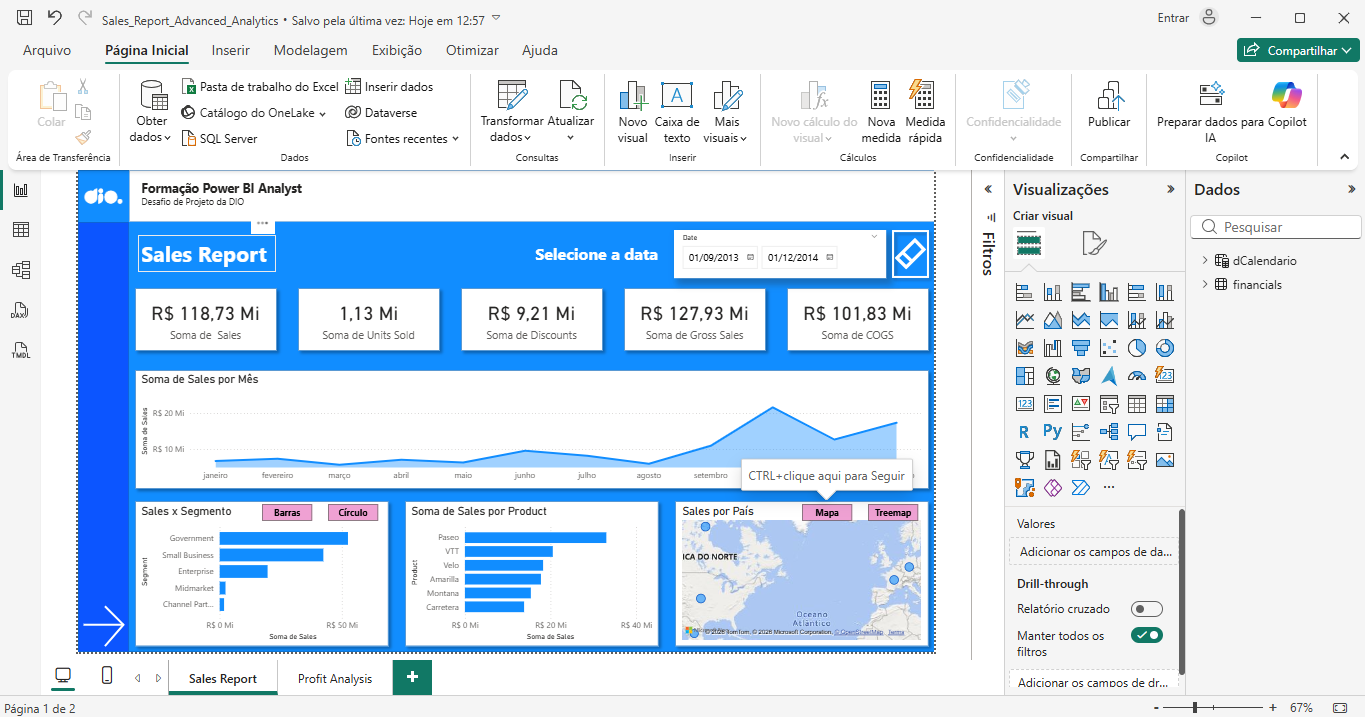

The page's visual inventory and layout, read from the dashboard file:
{"tool":"powerbi","page":{"name":"Sales Report","canvas":[1280,720],"ordinal":0},"visuals":[{"type":"shape","box":[0,0,1280.2,720],"z":0},{"type":"shape","box":[76.1,166.6,230,112],"z":0,"group":"g1"},{"type":"shape","box":[0,77.7,76.2,642.3],"z":1000},{"type":"shape","box":[319.5,166.6,230,112],"z":1000,"group":"g1"},{"type":"group","id":"g1","title":"Grupo 1","box":[76.1,166.6,1203.8,112],"z":2000},{"type":"shape","box":[563,166.6,230,112],"z":2000,"group":"g1"},{"type":"shape","box":[76.2,0,1204,77.7],"z":3000},{"type":"shape","box":[806.4,166.6,230,112],"z":3000,"group":"g1"},{"type":"shape","box":[1049.9,166.6,230,112],"z":4000,"group":"g1"},{"type":"shape","box":[76.2,289.8,1204,195.7],"z":4000},{"type":"shape","box":[76.7,485,396.7,235],"z":5000},{"type":"shape","box":[480,485,396.7,235],"z":6000},{"type":"shape","box":[883.3,485,396.7,235],"z":7000},{"type":"card","fields":{"Values":["Sum(financials. Sales)"]},"box":[90,178.3,201.7,88.3],"z":8000},{"type":"card","fields":{"Values":["Sum(financials.Units Sold)"]},"box":[333.3,178.3,201.7,88.3],"z":9000},{"type":"card","fields":{"Values":["Sum(financials.Discounts)"]},"box":[576.7,178.3,201.7,88.3],"z":10000},{"type":"card","fields":{"Values":["Sum(financials.Gross Sales)"]},"box":[820,178.3,201.7,88.3],"z":11000},{"type":"card","fields":{"Values":["Sum(financials.COGS)"]},"box":[1063.3,178.3,201.7,88.3],"z":12000},{"type":"areaChart","fields":{"Category":["dCalendario.Date.Variation.Hierarquia de datas.Mês"],"Y":["Sum(financials. Sales)"]},"box":[90,301.7,1175,171.7],"z":13000},{"type":"clusteredBarChart","fields":{"Category":["financials.Product"],"Y":["Sum(financials. Sales)"]},"box":[493.3,498.3,370,208.3],"z":14000},{"type":"actionButton","box":[0,642.3,76.2,77.7],"z":15000},{"type":"textbox","box":[678.2,103.1,212.1,44.8],"z":16000},{"type":"slicer","fields":{"Values":["dCalendario.Date"]},"box":[890.3,89.6,316.7,71.7],"z":17000},{"type":"textbox","box":[89.6,97.1,206.1,55.3],"z":18000},{"type":"textbox","box":[89.6,9,271.9,58.3],"z":19000},{"type":"actionButton","box":[1207,80.7,73.2,89.6],"z":20000},{"type":"image","box":[0,0,76.2,77.7],"z":21000},{"type":"barChart","title":"Sales x Segmento","fields":{"Category":["financials.Segment"],"Y":["Sum(financials. Sales)"]},"box":[90,498.3,370,208.3],"z":22000},{"type":"actionButton","box":[275,498.3,75,25],"z":24000},{"type":"actionButton","box":[373.3,498.3,75,25],"z":25000},{"type":"map","title":"Sales por País","fields":{"Category":["financials.Country"],"Size":["Sum(financials. Sales)"]},"box":[898.3,498.3,366.7,208.3],"z":26000},{"type":"actionButton","box":[1081.7,498.3,75,25],"z":28000},{"type":"actionButton","box":[1180,498.3,75,25],"z":29000}]}

Visuals, with their boxes on the page's 1280x720 design canvas (x1, y1, x2, y2). These are canvas units, not pixel positions in the 1365x717 screenshot, which may show the page scaled, cropped or inside an application window:
shape: <box>0,0,1280,720</box>
shape: <box>76,167,306,279</box>
shape: <box>0,78,76,720</box>
shape: <box>320,167,550,279</box>
"Grupo 1" group: <box>76,167,1280,279</box>
shape: <box>563,167,793,279</box>
shape: <box>76,0,1280,78</box>
shape: <box>806,167,1036,279</box>
shape: <box>1050,167,1280,279</box>
shape: <box>76,290,1280,486</box>
shape: <box>77,485,473,720</box>
shape: <box>480,485,877,720</box>
shape: <box>883,485,1280,720</box>
card - Sum(financials. Sales): <box>90,178,292,267</box>
card - Sum(financials.Units Sold): <box>333,178,535,267</box>
card - Sum(financials.Discounts): <box>577,178,778,267</box>
card - Sum(financials.Gross Sales): <box>820,178,1022,267</box>
card - Sum(financials.COGS): <box>1063,178,1265,267</box>
areaChart - dCalendario.Date.Variation.Hierarquia de datas.Mês x Sum(financials. Sales): <box>90,302,1265,473</box>
clusteredBarChart - financials.Product x Sum(financials. Sales): <box>493,498,863,707</box>
actionButton: <box>0,642,76,720</box>
textbox: <box>678,103,890,148</box>
slicer - dCalendario.Date: <box>890,90,1207,161</box>
textbox: <box>90,97,296,152</box>
textbox: <box>90,9,362,67</box>
actionButton: <box>1207,81,1280,170</box>
image: <box>0,0,76,78</box>
"Sales x Segmento" barChart: <box>90,498,460,707</box>
actionButton: <box>275,498,350,523</box>
actionButton: <box>373,498,448,523</box>
"Sales por País" map: <box>898,498,1265,707</box>
actionButton: <box>1082,498,1157,523</box>
actionButton: <box>1180,498,1255,523</box>
